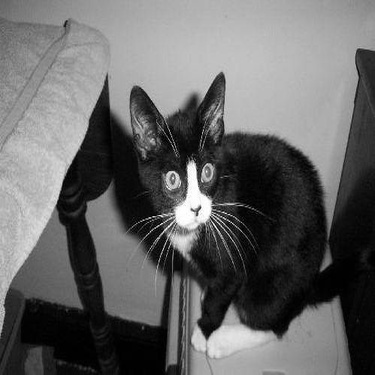cat: (127, 72, 343, 359)
